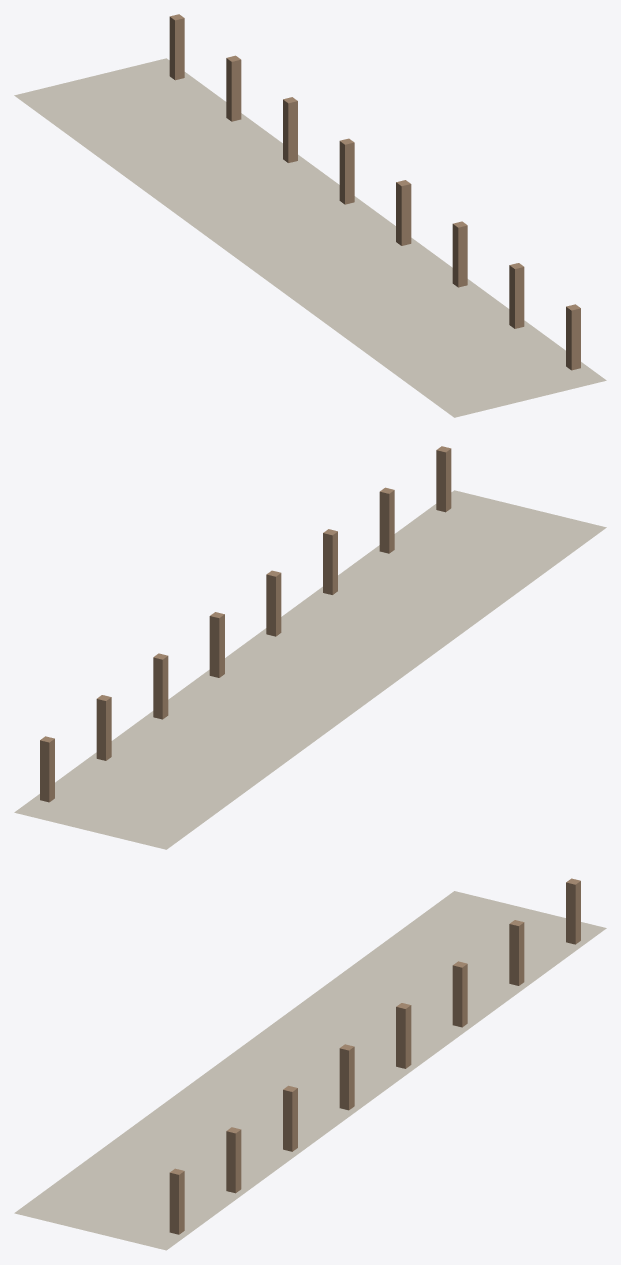
File: peripatos_v1.glb
3 renders of one model, top to bottom at view 1: azimuth 30°, elevation 25°; view 2: azimuth 150°, elevation 25°; view 3: azimuth 330°, elevation 25°, orthographic.
Parts seen in each view (by area): view 1: Peripatos; view 2: Peripatos; view 3: Peripatos.
Part boxes in pixels (left/top/right/bottom): Peripatos: left=14, top=14, right=606, bottom=417; Peripatos: left=14, top=446, right=606, bottom=849; Peripatos: left=14, top=878, right=606, bottom=1250.
Bounding box in the file's own units: 8 × 3 × 40.
